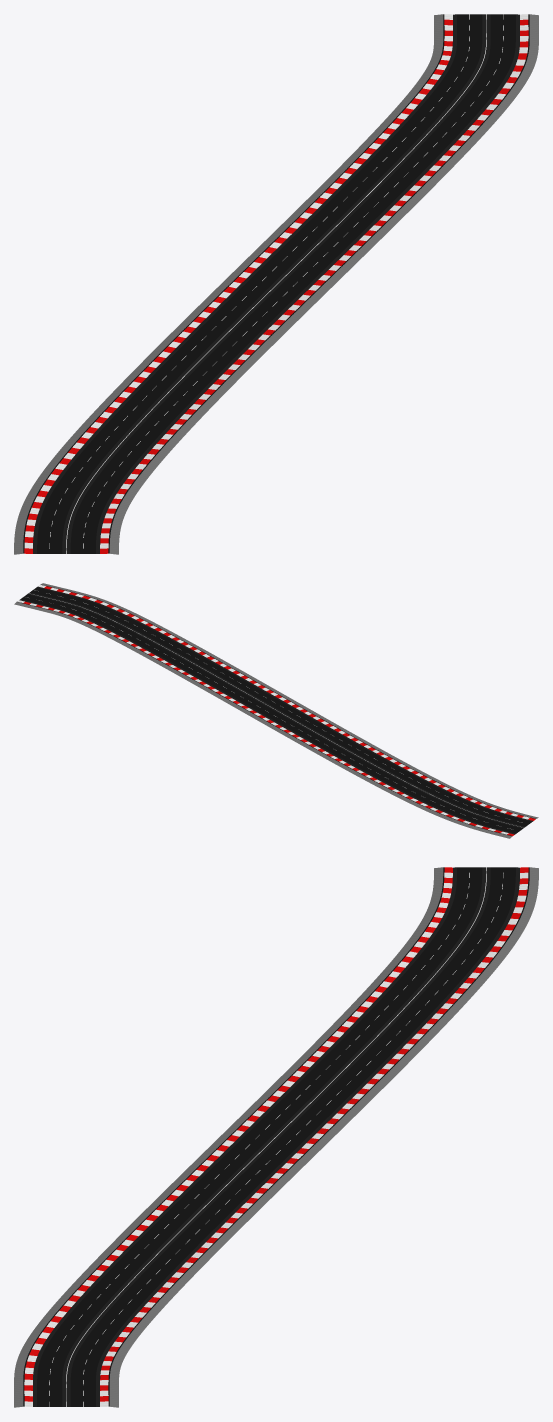
3 views of the same model, one above another, from view 1: azimuth 90°, elevation 25°; view 2: azimuth 150°, elevation 25°; view 3: azimuth 270°, elevation 25° (orthographic). The views are drawn at different scales.
Parts seen in each view (by area): view 1: Grid.002; view 2: Grid.002; view 3: Grid.002.
Boxes of the visible parts, x1,y1,x2,y2 form: Grid.002: [14, 14, 538, 554]; Grid.002: [14, 583, 538, 838]; Grid.002: [14, 867, 538, 1407].
Size of the model in its own units: 304 by 0.31 by 125.
